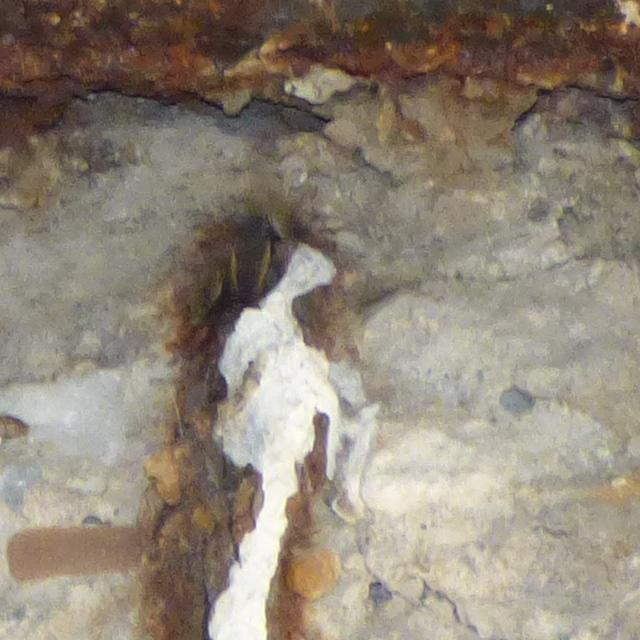Rust: (4, 1, 638, 150), (139, 431, 264, 631)
